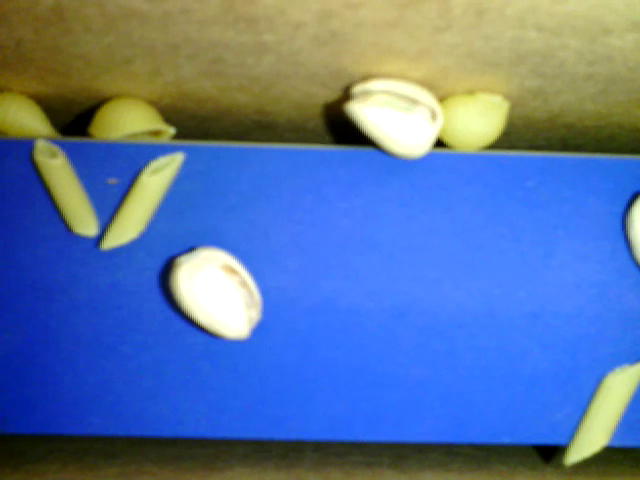penne: (100, 148, 185, 251), (564, 354, 639, 467), (34, 137, 100, 238)
shell: (436, 92, 510, 150), (85, 93, 177, 139), (1, 88, 66, 140)
